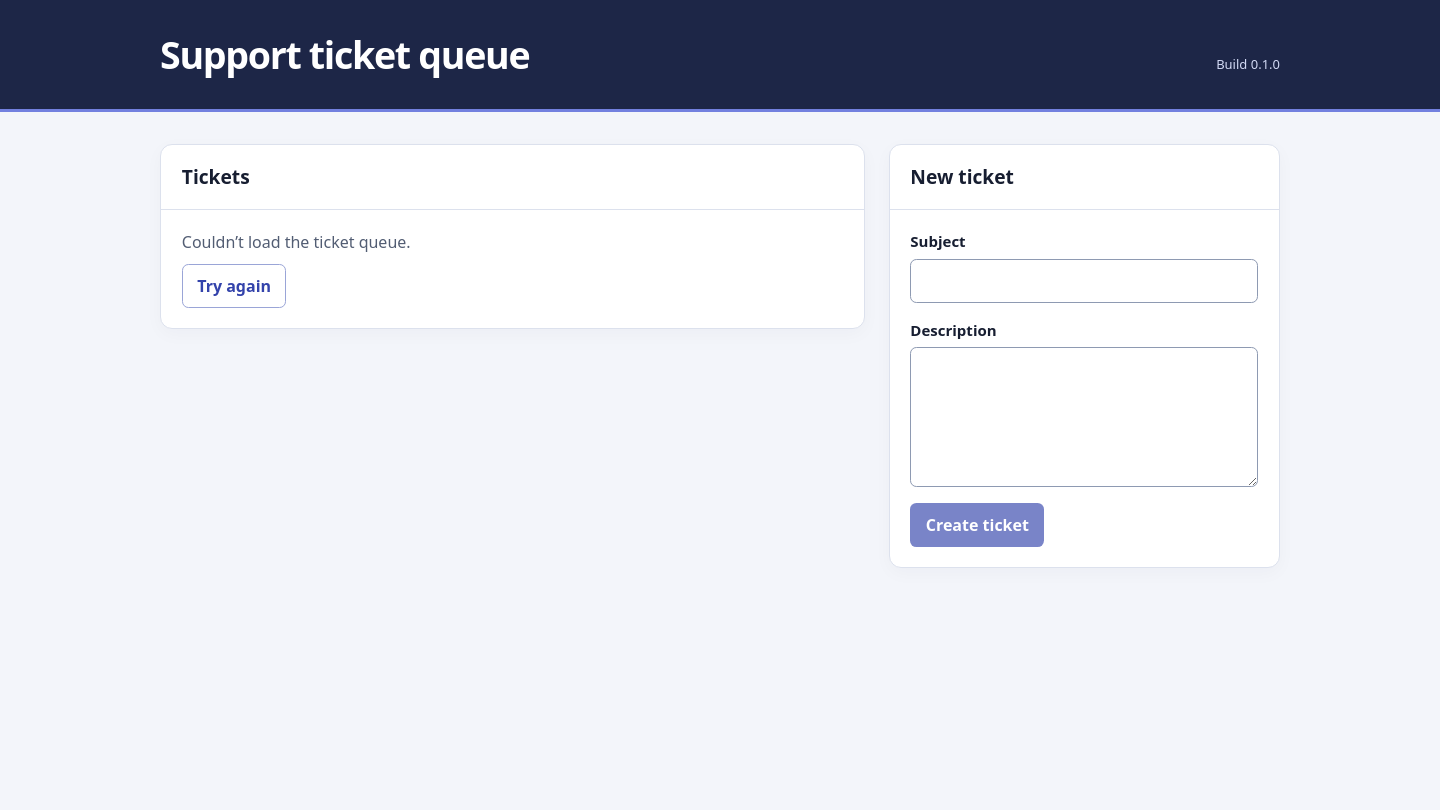
retries a failed queue request and shows the empty state
Check: the text "Couldn’t load the ticket queue." is shown, box [182,231,411,253]
Step 1. Click the button "Try again" → [234, 286], box [182,264,286,308]
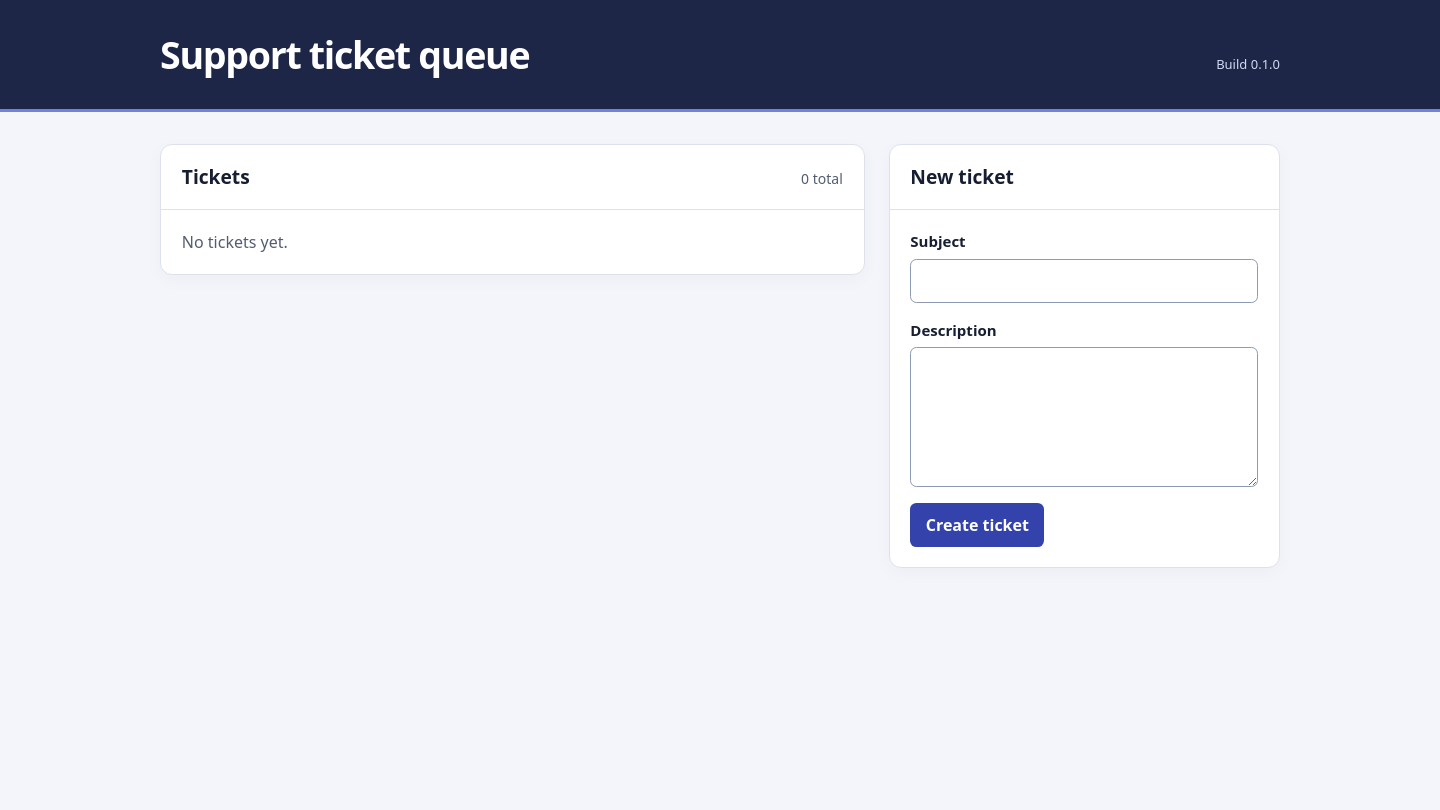
Check: the text "No tickets yet." is shown, box [182,231,288,253]
